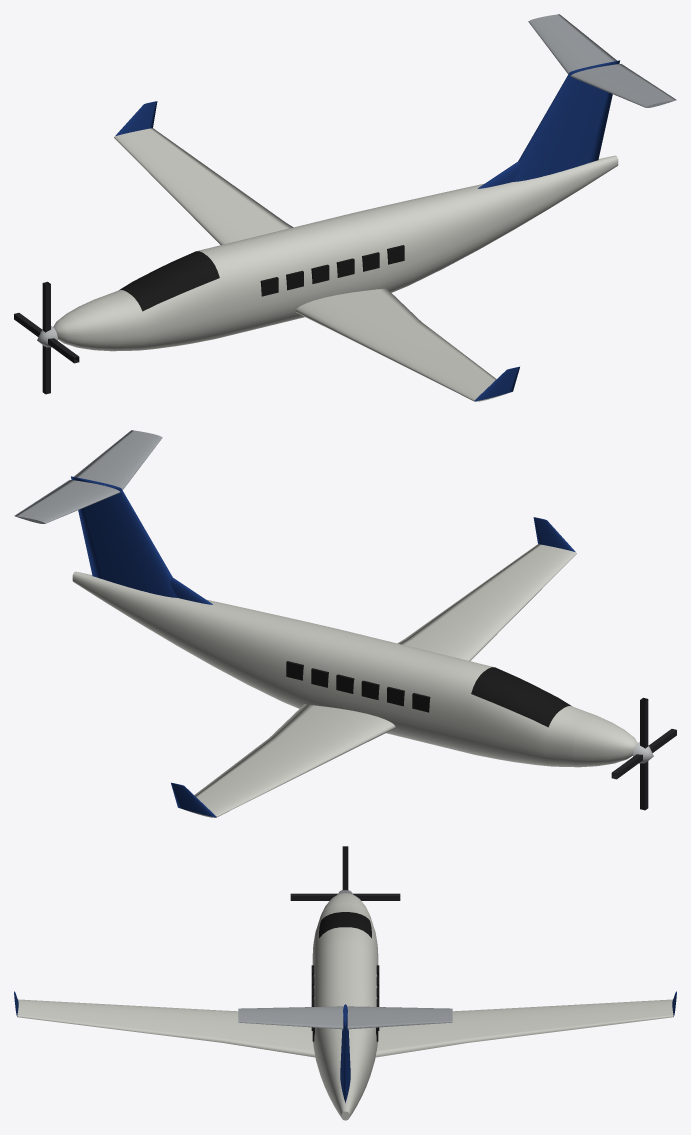
3 views of the same model, one above another, from view 1: azimuth 30°, elevation 25°; view 2: azimuth 150°, elevation 25°; view 3: azimuth 270°, elevation 25° (orthographic). The views are drawn at different scales.
Parts seen in each view (by area): view 1: pc12; view 2: pc12; view 3: pc12.
Part boxes in pixels (x1,y1,x2,y2): pc12: [14, 14, 676, 401]; pc12: [14, 430, 676, 817]; pc12: [14, 846, 676, 1120].
Size of the model in its own units: 14.92 by 4.83 by 16.11.
